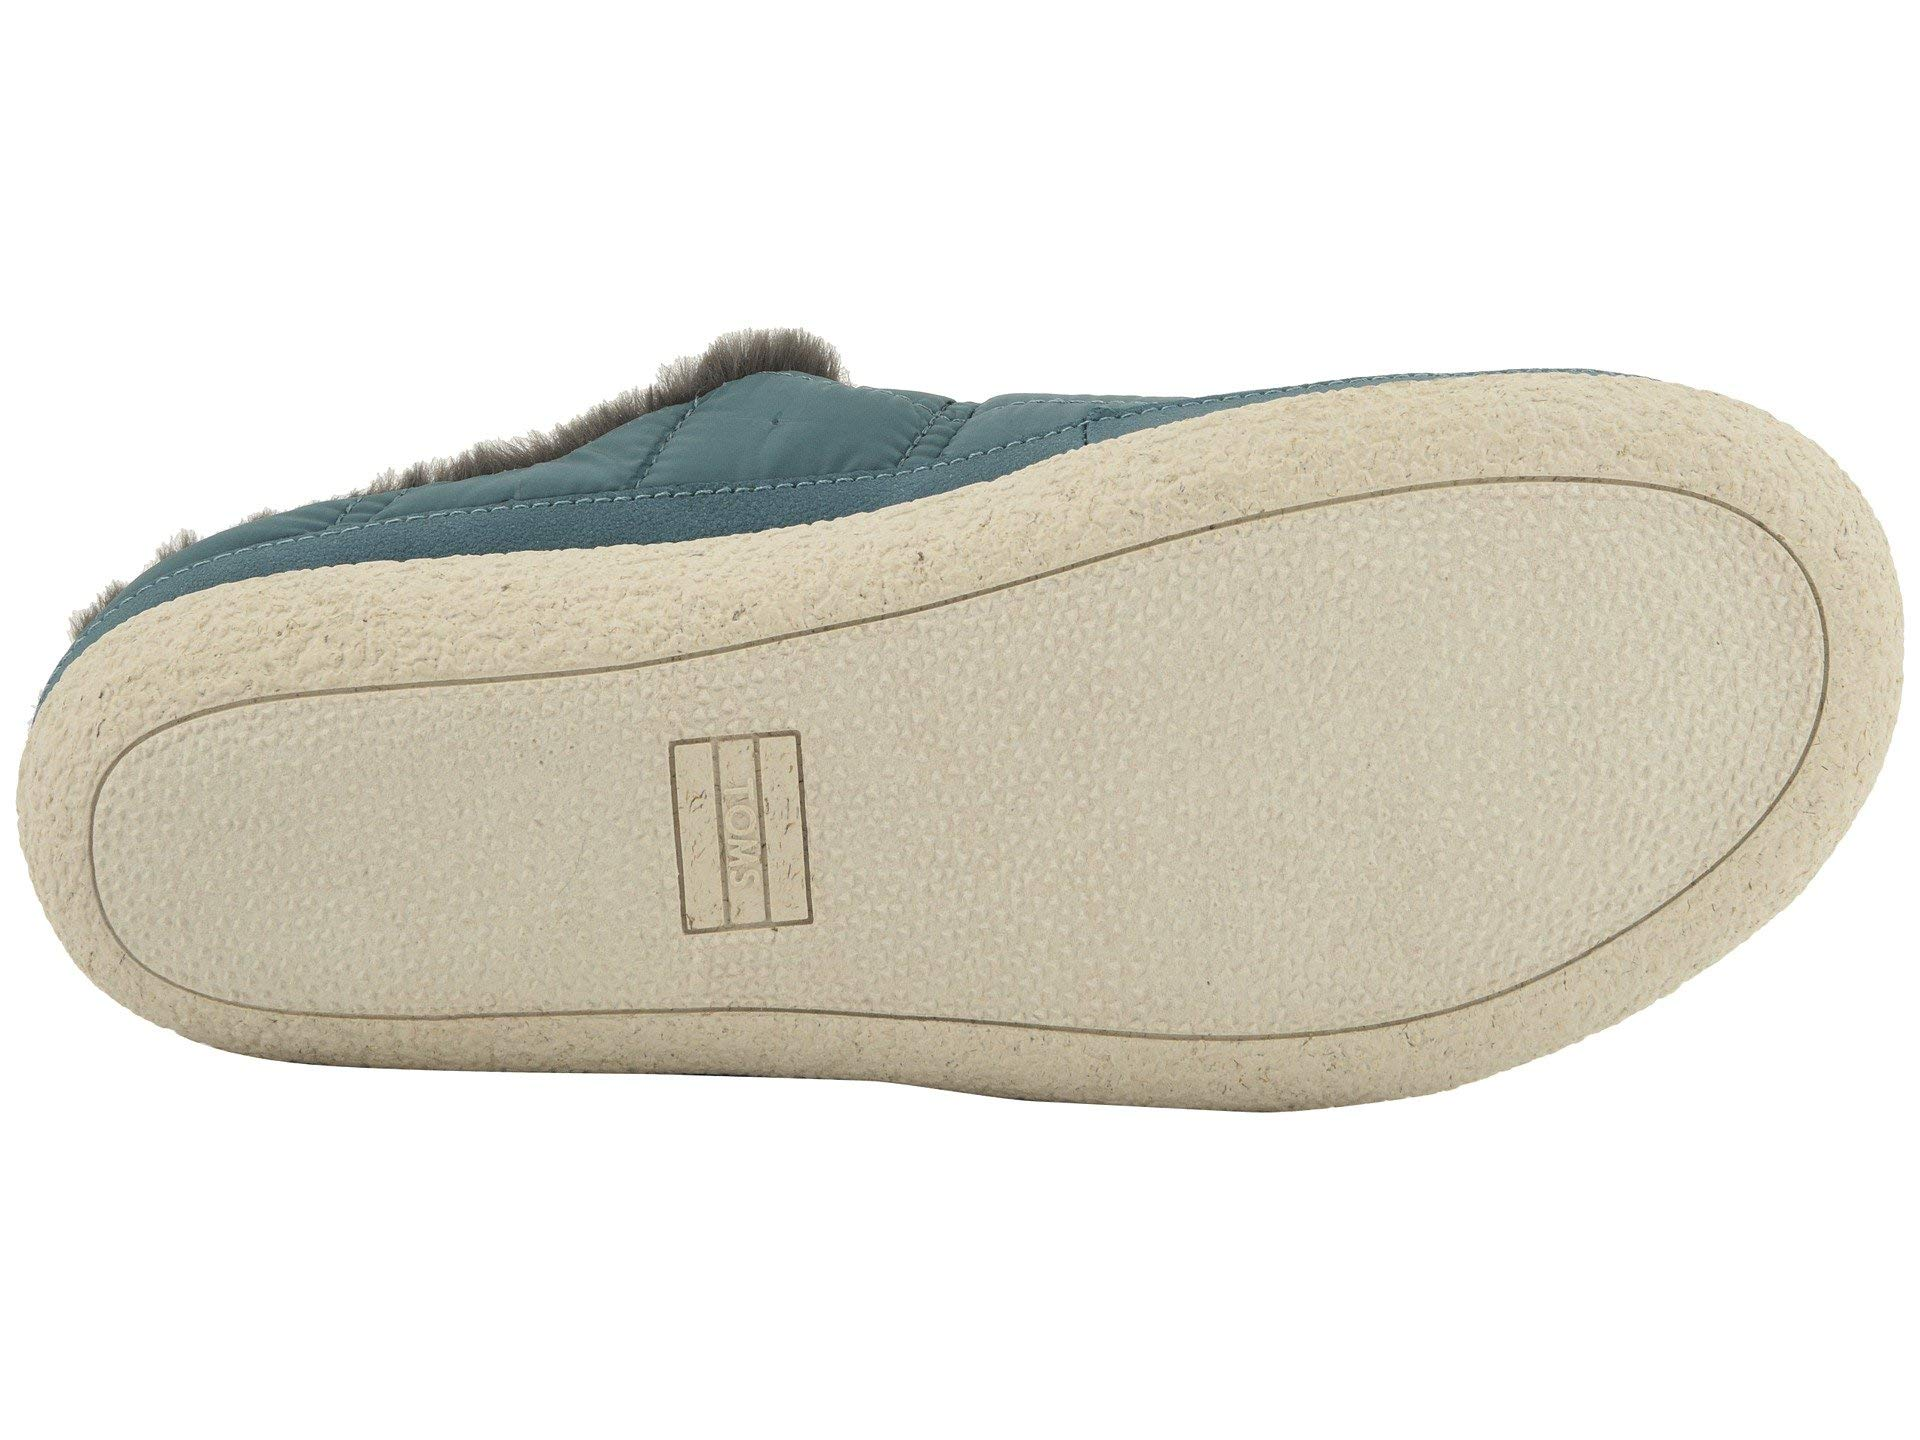circle: (630, 696, 859, 976)
other: (1128, 537, 1646, 917)
quad: (630, 696, 859, 976)
text: (630, 696, 859, 976)
